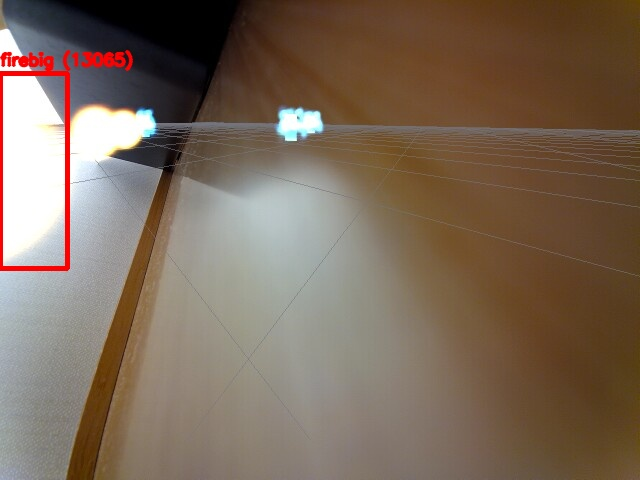firebig: (0, 73, 67, 268)
